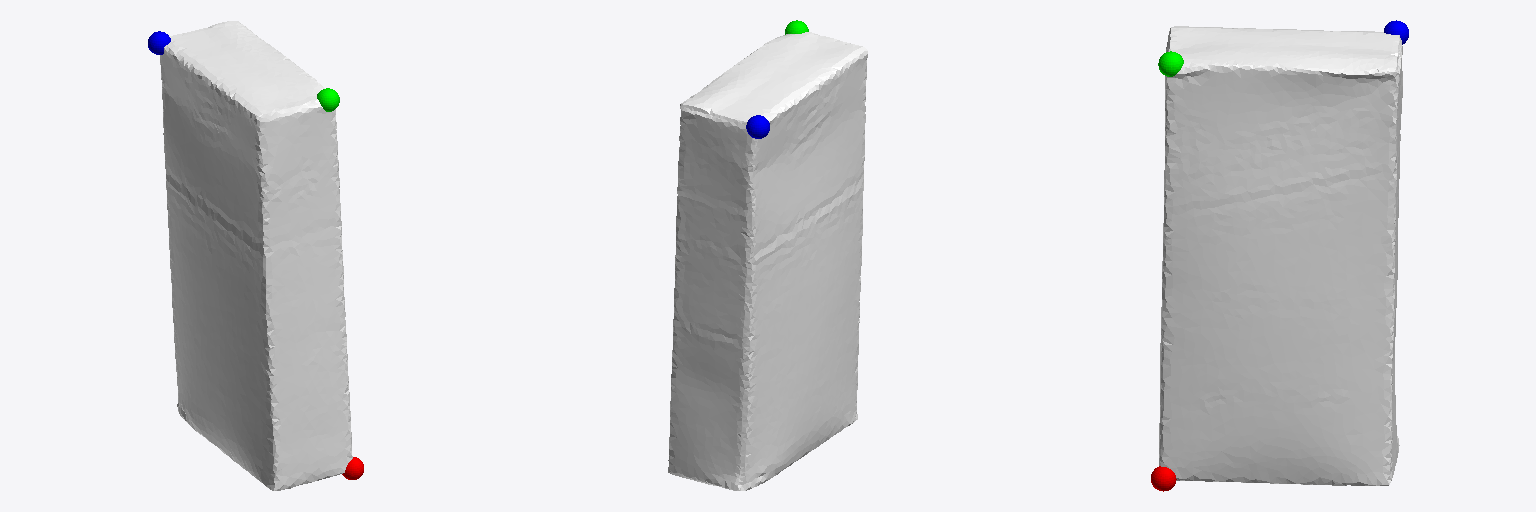
URDF robot description (Sugar_box):
<?xml version="1.0" ?>
<robot name="Sugar_box">

  <link name="Link">

    <inertial>
      <origin rpy="0 0 0" xyz="-0.007799 -0.016942 0.087678"/>
       <mass value="0.5"/>
       <inertia ixx="0.000002" ixy="0" ixz="0"
                iyy="0.000002" iyz="0"
                izz="0.000001"/>
    </inertial>
    <visual>
      <origin rpy="0 0 0" xyz="0 0 0"/>
      <geometry>
           <mesh filename="textured2.obj" scale="1 1 1"/>
      </geometry>
      <material name="framemat0">
        <color rgba="1 1 1 1"/>
      </material>
    </visual>
    <collision>
      <geometry>
	 	 <mesh filename="textured2.obj" scale="1 1 1"/>
      </geometry>
    </collision>
  </link>

  <link name="keypoint1">
        <inertial>
            <origin rpy="0 0 0" xyz="0.01267 -0.06182 0.002894"/>
            <mass value="0.001"/>
            <inertia ixx="0.000001" ixy="0" ixz="0" iyy="0.000001" iyz="0" izz="0.000001"/>
        </inertial>
        <visual>
            <origin rpy="0.00000 -0.00000 0.00000" xyz="0.01267 -0.06182 0.002894"/>
            <geometry>
                <sphere radius="0.005"/>
            </geometry>


            <material name="keypoints1">
             <color rgba="1 0 0 1"/>
              </material>
        </visual>
    </link>
    <link name="keypoint2">
        <inertial>
            <origin rpy="0 0 0" xyz="0.002546 -0.058889 0.174045"/>
            <mass value="0.001"/>
            <inertia ixx="0.000001" ixy="0" ixz="0" iyy="0.000001" iyz="0" izz="0.000001"/>
        </inertial>
        <visual>
            <origin rpy="0.00000 -0.00000 0.00000" xyz="0.002546 -0.058889 0.174045"/>
            <geometry>
                <sphere radius="0.005"/>
            </geometry>
             <material name="keypoints2">
             <color rgba="0 1 0 1"/>
              </material>
        </visual>
    </link>
    <link name="keypoint3">
        <inertial>
            <origin rpy="0 0 0" xyz="-0.028748 0.027729 0.172607"/>
            <mass value="0.001"/>
            <inertia ixx="0.000001" ixy="0" ixz="0" iyy="0.000001" iyz="0" izz="0.000001"/>
        </inertial>
        <visual>
            <origin rpy="0.00000 -0.00000 0.00000" xyz="-0.028748 0.027729 0.172607"/>
            <geometry>
                <sphere radius="0.005"/>
            </geometry>
             <material name="keypoints3">
             <color rgba="0 0 1 1"/>
              </material>
        </visual>
    </link>

    <joint name="joint_kp1" type="fixed">
        <parent link="Link"/>
        <child link="keypoint1"/>
        <origin rpy="0 0 0" xyz="0 0 0"/>
        <axis xyz="0 0 0"/>
        <dynamics damping="1.0" friction="0.0001"/>
    </joint>
    <joint name="joint_kp2" type="fixed">
        <parent link="Link"/>
        <child link="keypoint2"/>
        <origin rpy="0 0 0" xyz="0 0 0"/>
        <axis xyz="0 0 0"/>
        <dynamics damping="1.0" friction="0.0001"/>
    </joint>
    <joint name="joint_kp3" type="fixed">
        <parent link="Link"/>
        <child link="keypoint3"/>
        <origin rpy="0 0 0" xyz="0 0 0"/>
        <axis xyz="0 0 0"/>
        <dynamics damping="1.0" friction="0.0001"/>
    </joint>
</robot>

--- What the picture shows (computed from the rendered views, not written in the file) ---
3 views of the same robot in one strip: view 1: azimuth 30°, elevation 25°; view 2: azimuth 150°, elevation 25°; view 3: azimuth 270°, elevation 25° (orthographic).
Model Sugar_box with 4 links and 3 joints (3 fixed), rooted at Link, posed all joints at 0.
Links seen in each view (by area): view 1: Link; view 2: Link; view 3: Link.
Link boxes in pixels (<box>): Link: <box>160,21,352,490</box>; Link: <box>668,32,867,490</box>; Link: <box>1159,26,1402,485</box>.
Size in the robot's own frame: 0.0514 by 0.0995 by 0.1812 metres.
1 mesh visuals loaded from 1 distinct referenced files (1 OBJ).